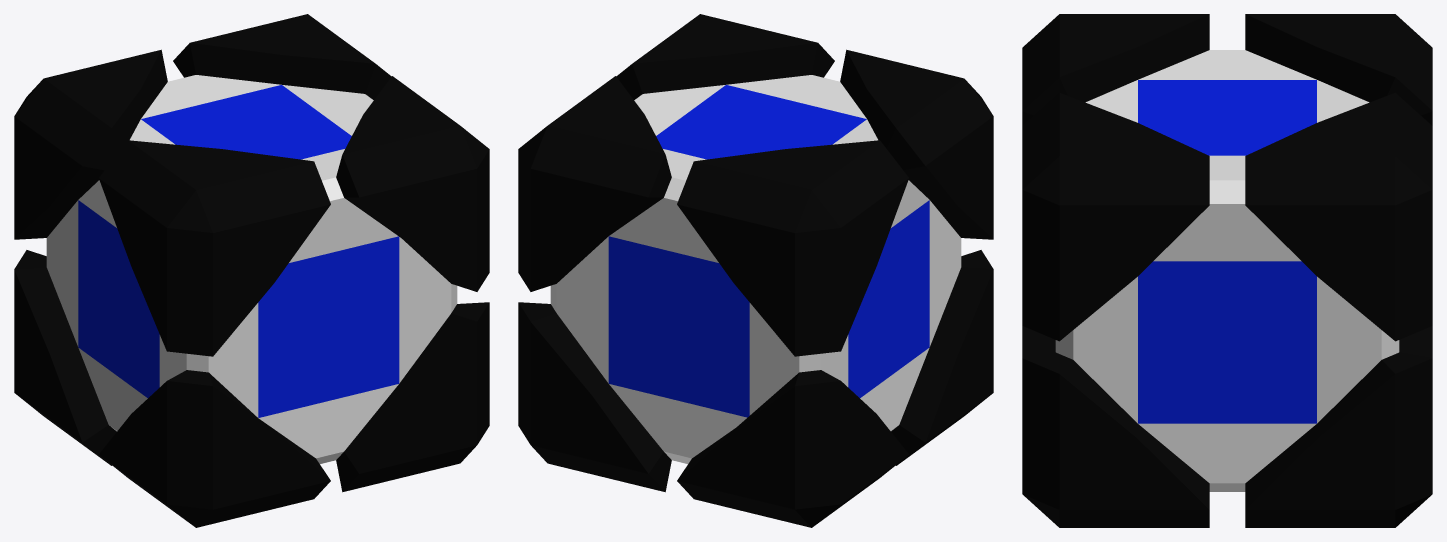
File: PowerCube.fbx
3 renders of one model, left to right at view 1: azimuth 30°, elevation 25°; view 2: azimuth 150°, elevation 25°; view 3: azimuth 270°, elevation 25°, orthographic. The views are drawn at different scales.
Visible parts, largest first — view 1: PowerCube; view 2: PowerCube; view 3: PowerCube.
Boxes of the visible parts, bbox=[...] form: PowerCube: bbox=[14, 14, 489, 527]; PowerCube: bbox=[518, 14, 993, 527]; PowerCube: bbox=[1022, 14, 1432, 527].
Size of the model in its own units: 1200 by 1200 by 1200.
